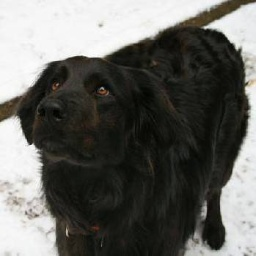dog: (16, 23, 250, 256)
